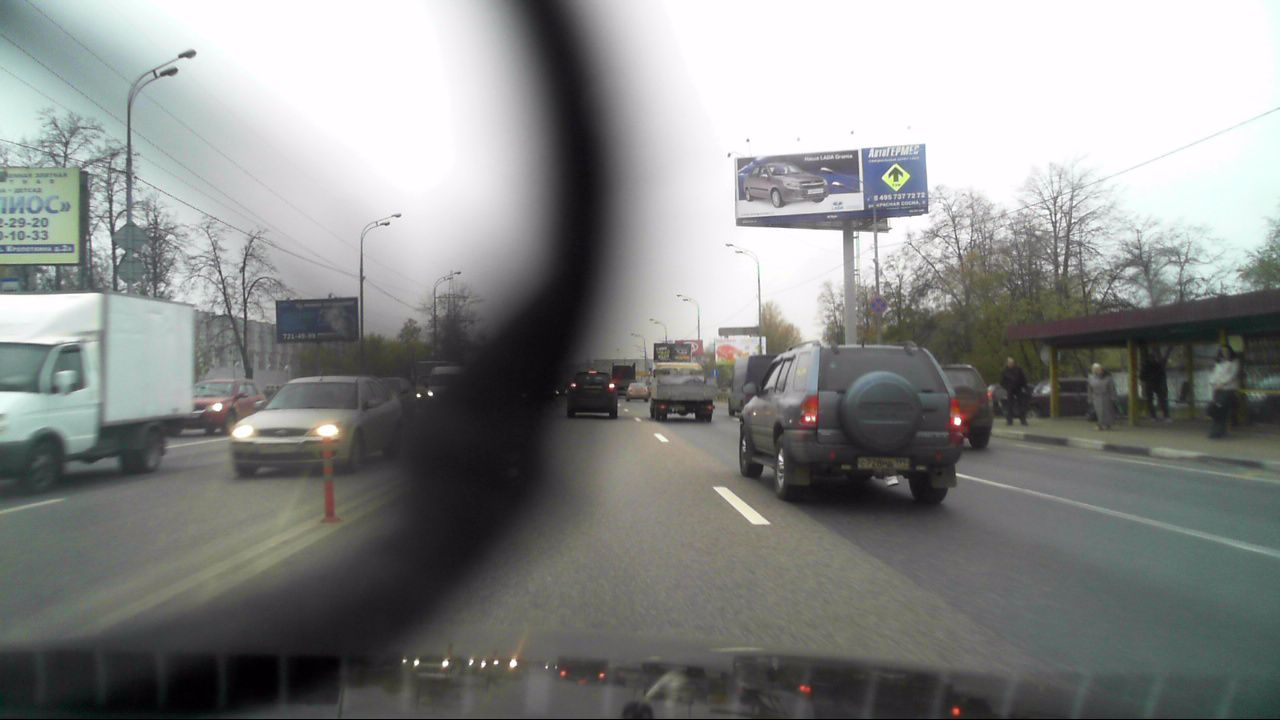No Parking: (871, 297, 887, 317)
